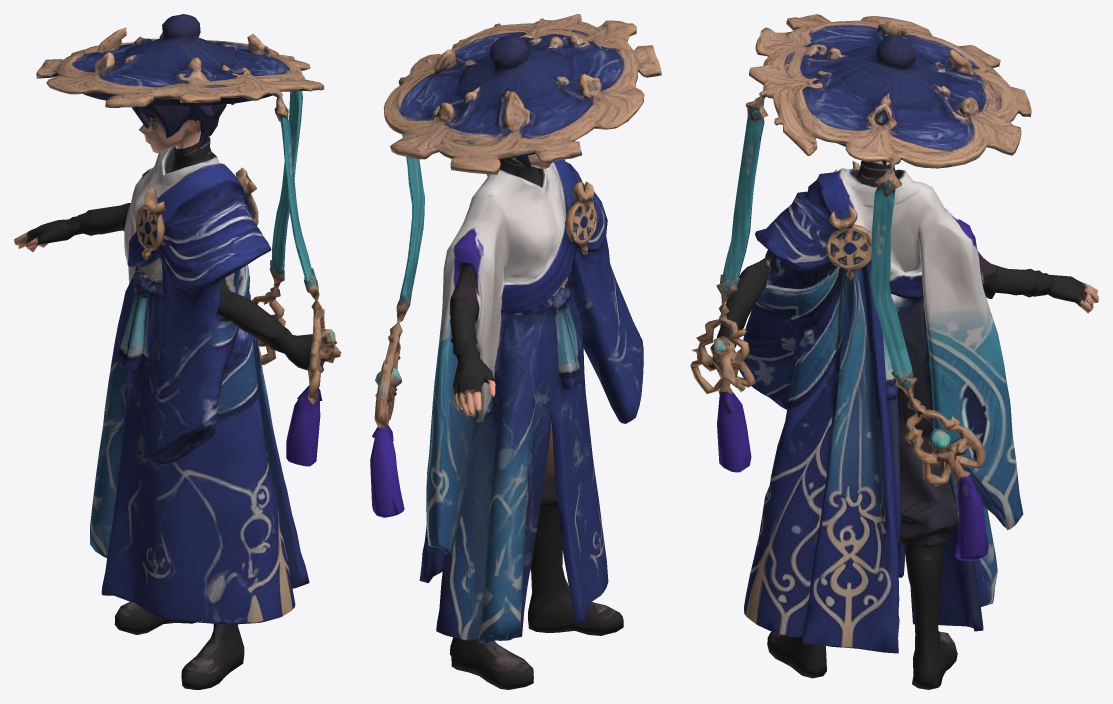
The model's file is supporter-031.glb.
3 renders of one model, left to right at view 1: azimuth 30°, elevation 25°; view 2: azimuth 150°, elevation 25°; view 3: azimuth 270°, elevation 25°, orthographic.
Visible parts, largest first — view 1: tripo_node_973a8b02-2e95-46cf-828c-42d722e2aa70; view 2: tripo_node_973a8b02-2e95-46cf-828c-42d722e2aa70; view 3: tripo_node_973a8b02-2e95-46cf-828c-42d722e2aa70.
Boxes of the visible parts, box(x1,y1,x2,y2) form: tripo_node_973a8b02-2e95-46cf-828c-42d722e2aa70: box(14, 14, 341, 689); tripo_node_973a8b02-2e95-46cf-828c-42d722e2aa70: box(370, 14, 661, 689); tripo_node_973a8b02-2e95-46cf-828c-42d722e2aa70: box(690, 14, 1098, 689).
Size of the model in its own units: 0.7109 by 1.75 by 1.02.
Materials: 1 (1 with a texture image).
